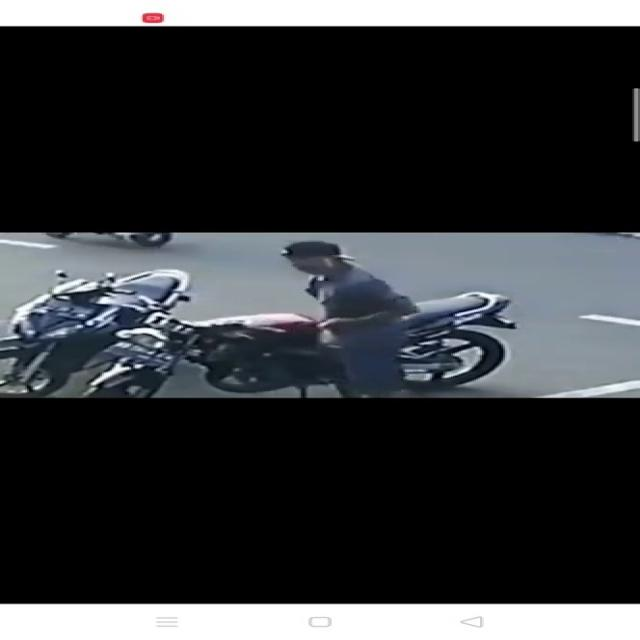pencurian: (100, 240, 503, 396)
